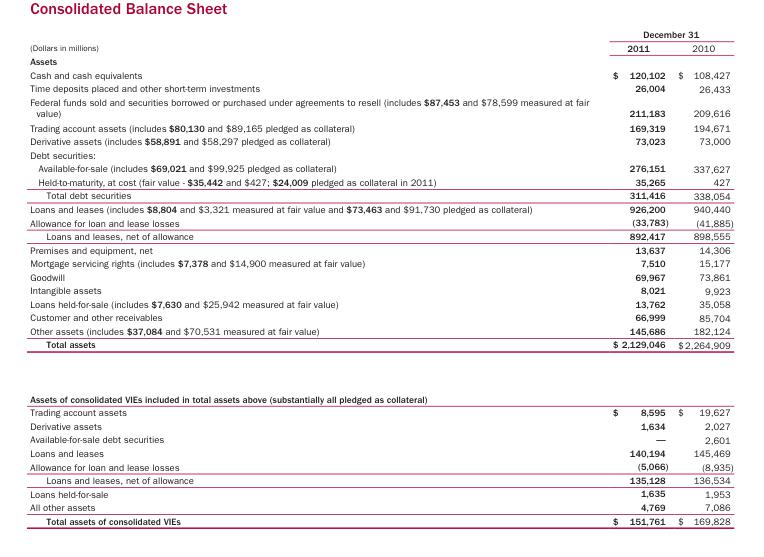table: (29, 28, 732, 526)
table column: (29, 28, 600, 526), (600, 28, 672, 526), (672, 28, 732, 526)
table column header: (29, 28, 732, 54)
table projected row header: (29, 371, 732, 405), (29, 147, 732, 161), (29, 54, 732, 67)
table row: (29, 337, 732, 371), (29, 371, 732, 405), (29, 95, 732, 120), (29, 40, 732, 54), (29, 67, 732, 81), (29, 81, 732, 95), (29, 120, 732, 134), (29, 147, 732, 161), (29, 161, 732, 175), (29, 188, 732, 202), (29, 215, 732, 229), (29, 242, 732, 256), (29, 269, 732, 283), (29, 283, 732, 297), (29, 310, 732, 324), (29, 405, 732, 419), (29, 432, 732, 446), (29, 459, 732, 473), (29, 486, 732, 500), (29, 54, 732, 67), (29, 134, 732, 147), (29, 175, 732, 188), (29, 202, 732, 215), (29, 229, 732, 242), (29, 256, 732, 269), (29, 297, 732, 310), (29, 324, 732, 337), (29, 419, 732, 432), (29, 446, 732, 459), (29, 473, 732, 486), (29, 500, 732, 513), (29, 513, 732, 526), (29, 28, 732, 40)
table spanning cell: (29, 28, 600, 54), (600, 28, 732, 40)
